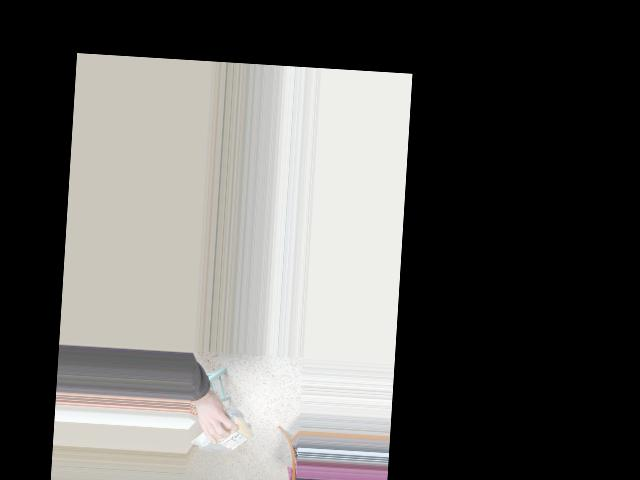cheese: (190, 419, 261, 453)
